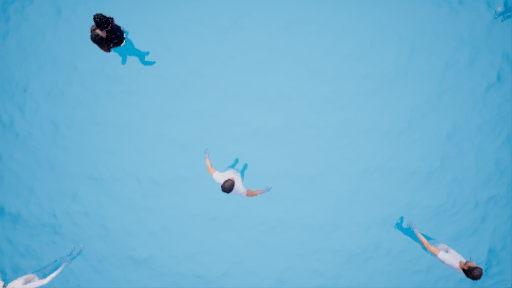person: (390, 219, 488, 283), (83, 4, 162, 77), (199, 143, 273, 205)
